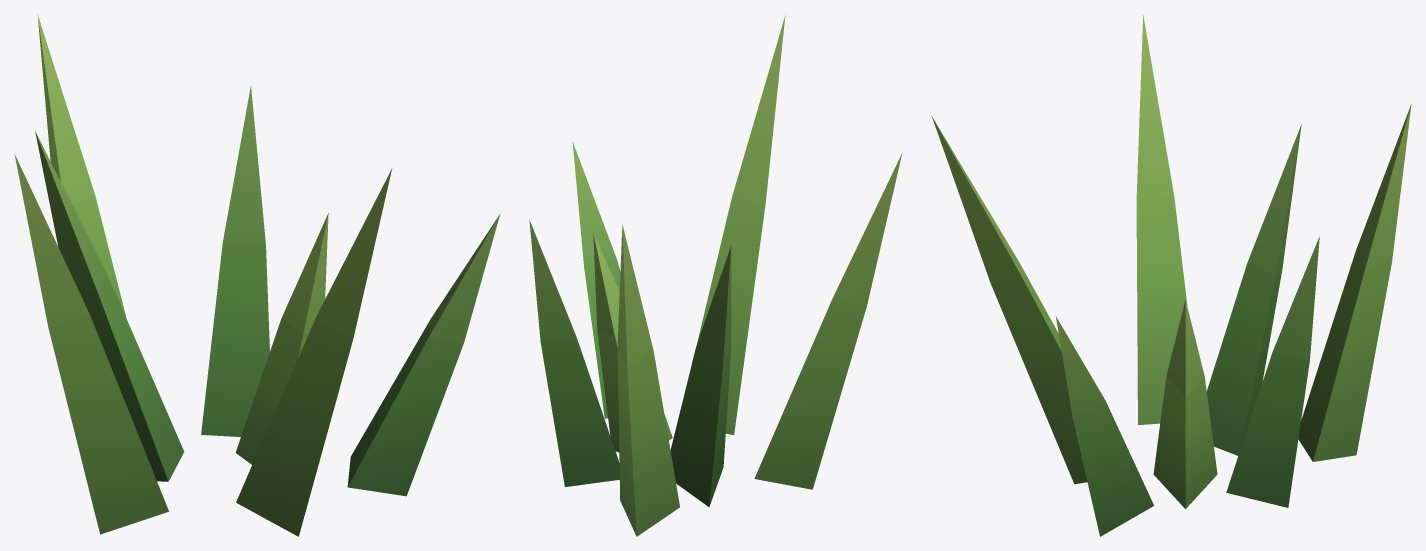
Rendered from grass_tuft.glb.
The picture shows the model from 3 angles, left to right: view 1: azimuth 30°, elevation 25°; view 2: azimuth 150°, elevation 25°; view 3: azimuth 270°, elevation 25°; orthographic projection. The views are drawn at different scales.
Parts seen in each view (by area): view 1: grass_tuft; view 2: grass_tuft; view 3: grass_tuft.
Part boxes in pixels (left/top/right/bottom): grass_tuft: left=14, top=15, right=500, bottom=536; grass_tuft: left=529, top=15, right=902, bottom=536; grass_tuft: left=931, top=15, right=1411, bottom=536.
Bounding box in the file's own units: 2.4 × 2.24 × 2.6.
Materials: 1 (1 with a texture image).
